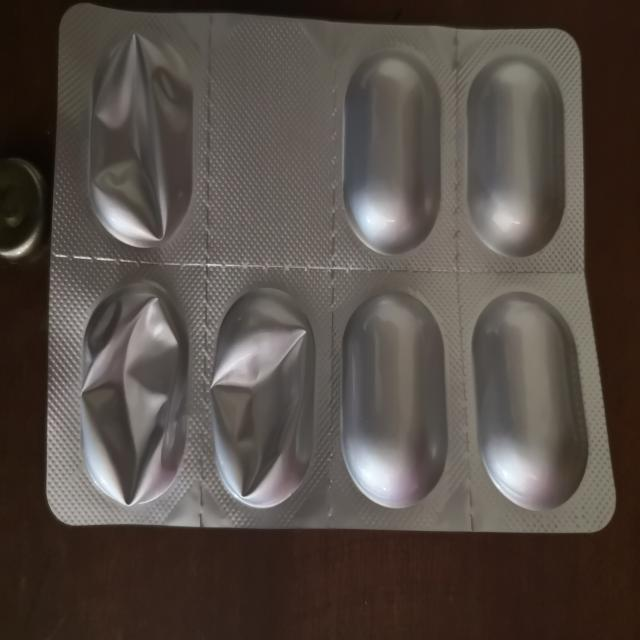Empty: (72, 267, 195, 508), (206, 280, 320, 515), (83, 27, 202, 249)
Pill: (470, 285, 590, 513), (339, 284, 456, 507), (335, 44, 446, 257), (463, 52, 568, 266)
